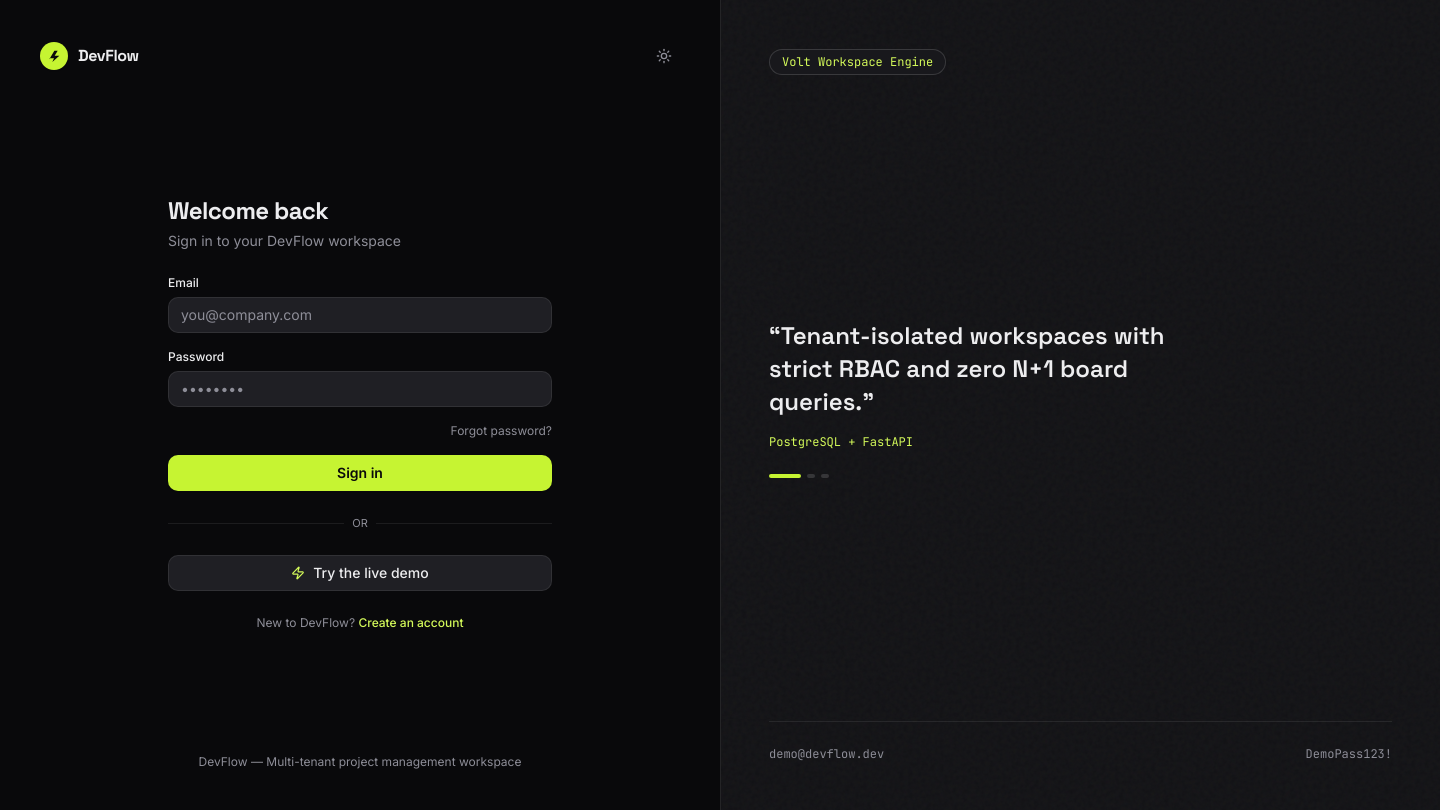
Scenario: LoginPage › displays server error alert when credentials fail
The width and height of the screenshot is (1440, 810).
Type "bad@devflow.dev" into the field labelled "Email" at (360,315), box x1=168 y1=297 x2=552 y2=333
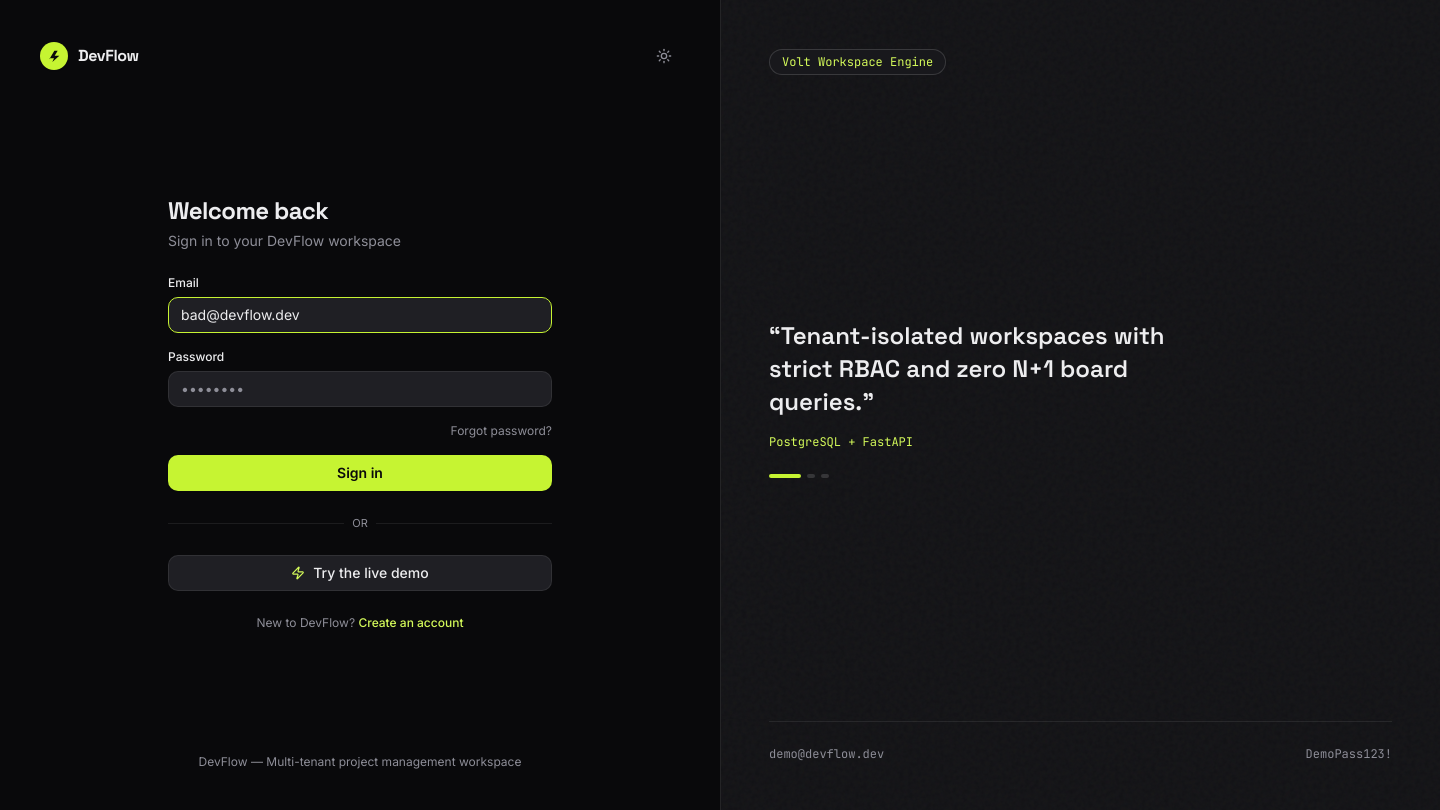
Type "WrongPass1" into the password field labelled "Password" at (360,389), box x1=168 y1=371 x2=552 y2=407
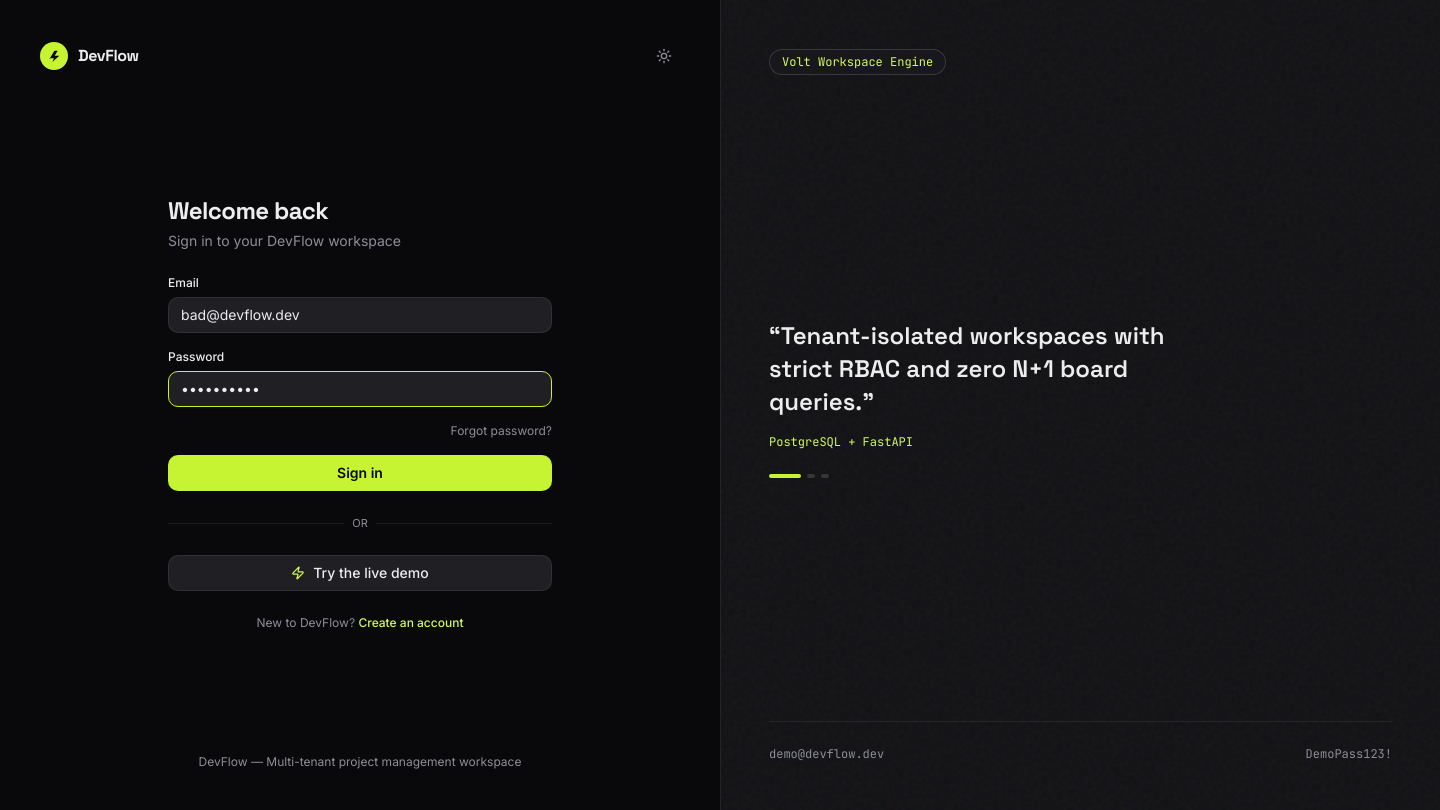
Click the button "Sign in" at (360,473), box x1=168 y1=455 x2=552 y2=491
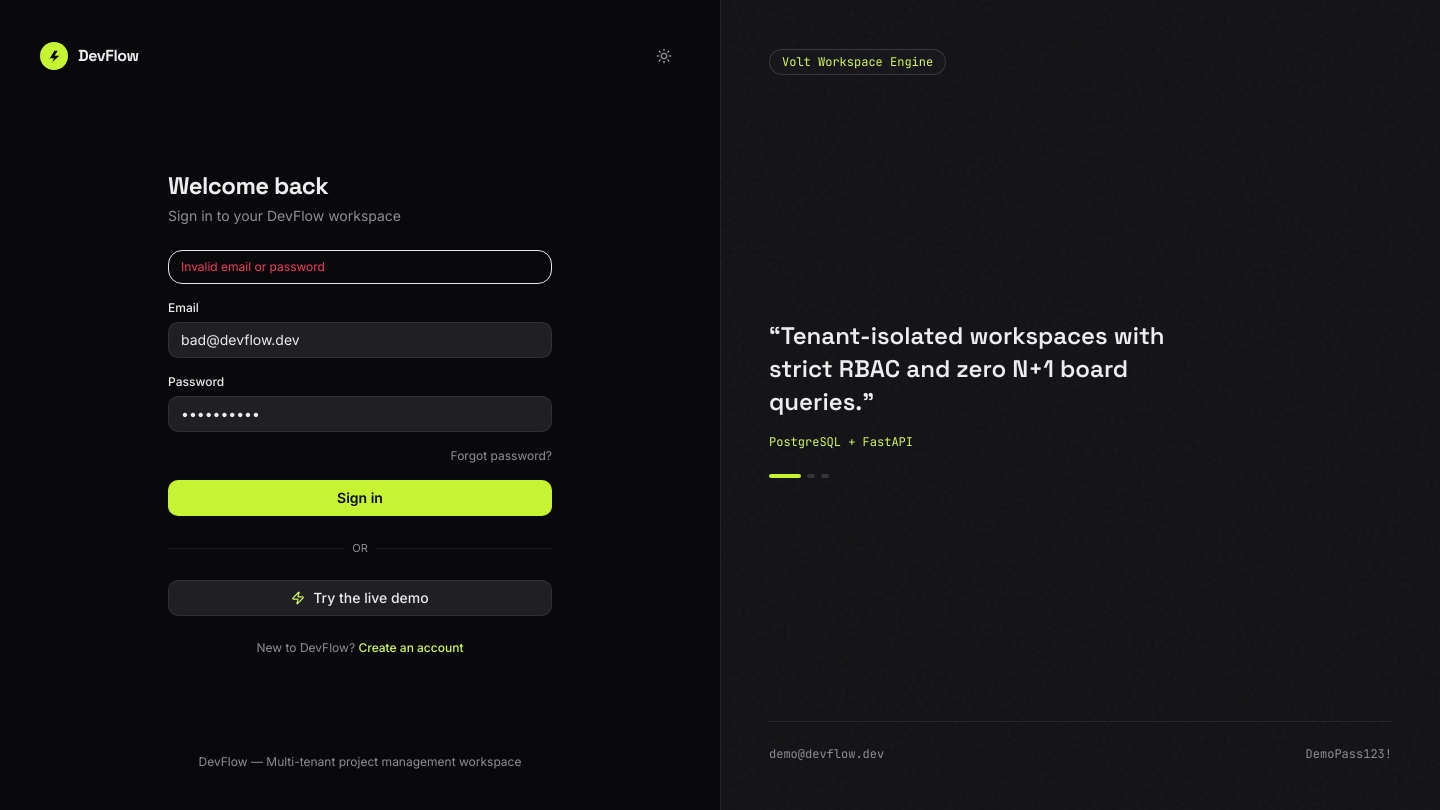
Now the message reads "Invalid email or password", box x1=181 y1=259 x2=325 y2=274
